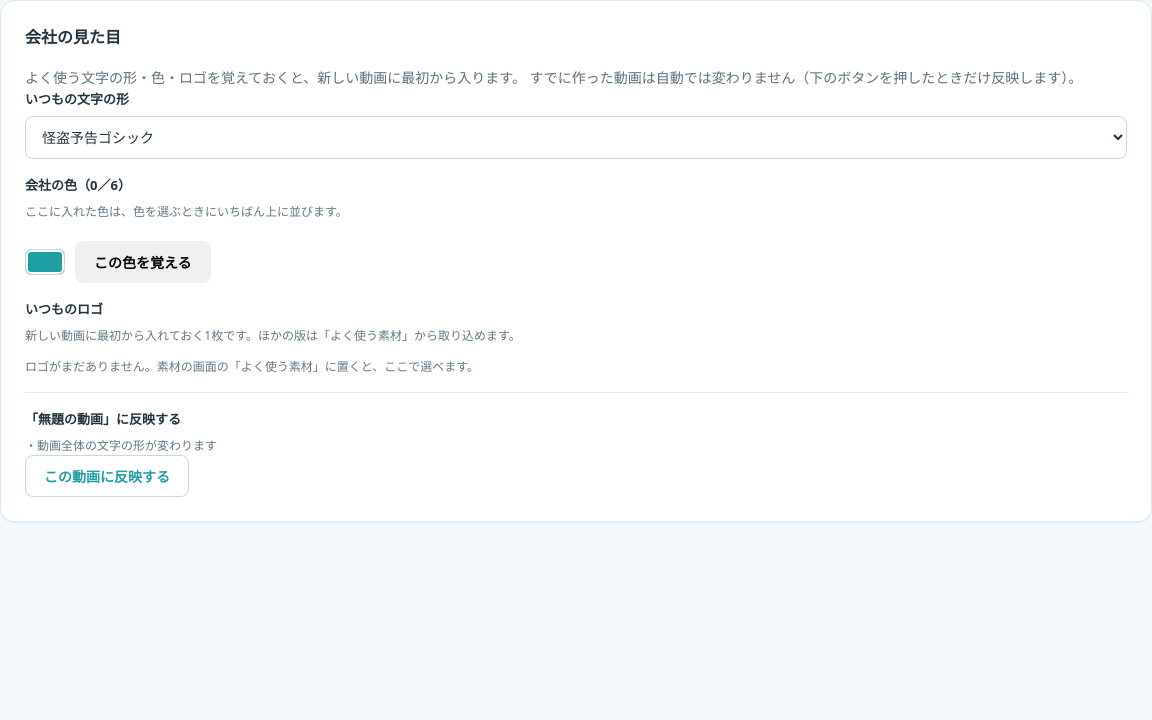
Test case: BrandKitSection › 覚え直しが保存できなければ、画面を戻して理由を出す
The image size is (1152, 720).
Select "Gen Interface JP（標準）" in the dropdown labelled "いつもの文字の形" at (576, 137), box [25,116,1127,159]
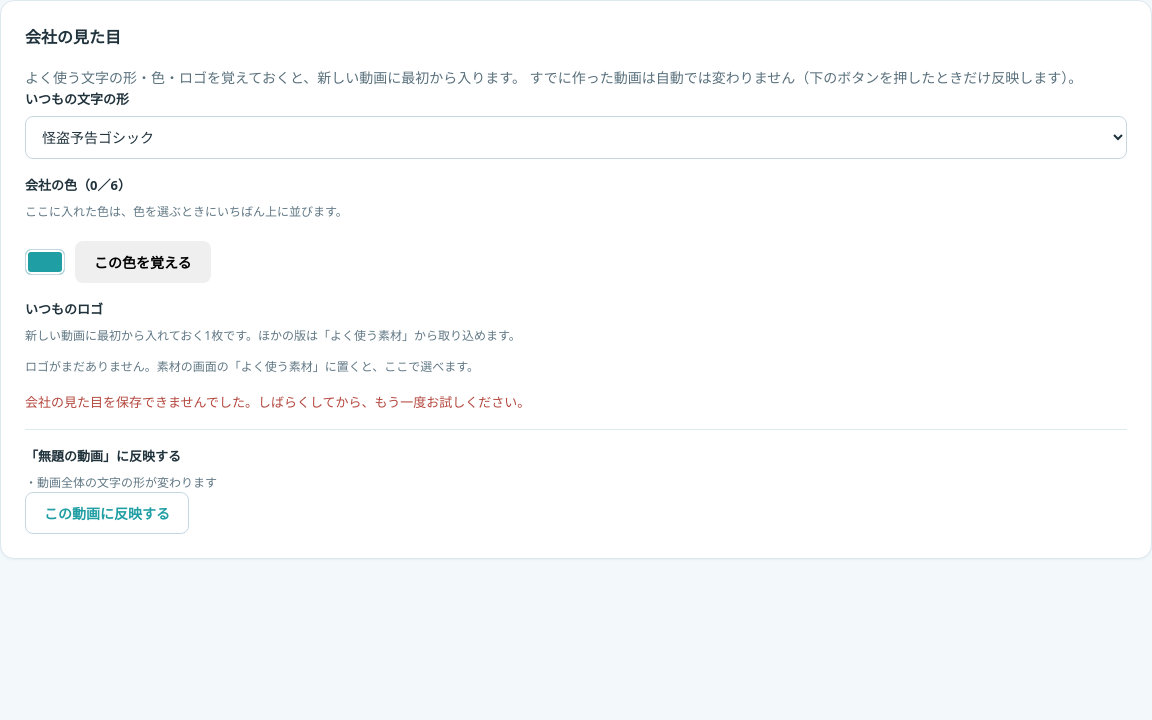
Result: the text "会社の見た目を保存できませんでした。しばらくしてから、もう一度お試しください。" is shown at [25,393,530,411]
